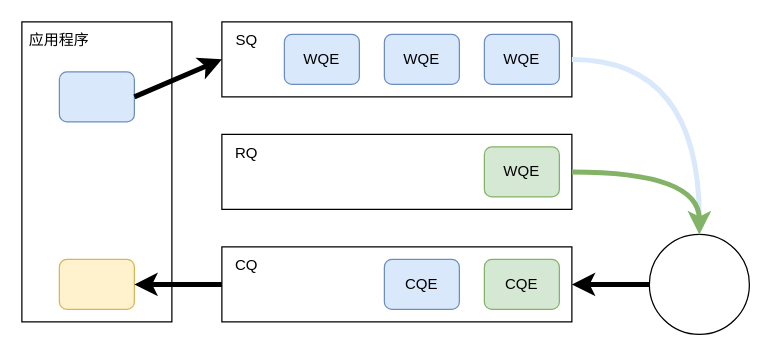
This 771x356 diagram has some shape labels left out. Each missing label, with the centre of its shape:
"RDMA 网卡" belongs at (698,283).
"工作完成" belongs at (96,283).
"工作请求" belongs at (96,96).
